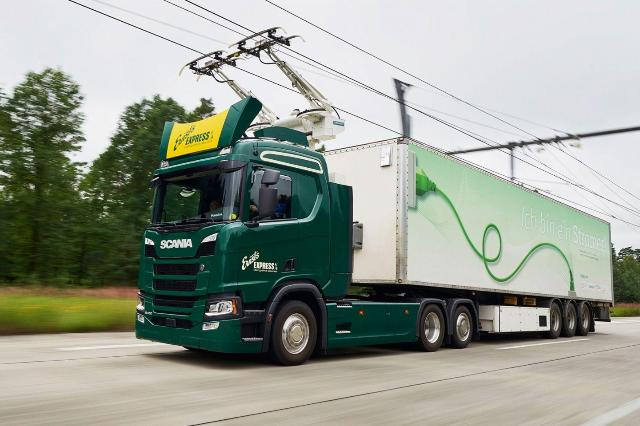truck: (110, 108, 636, 371)
